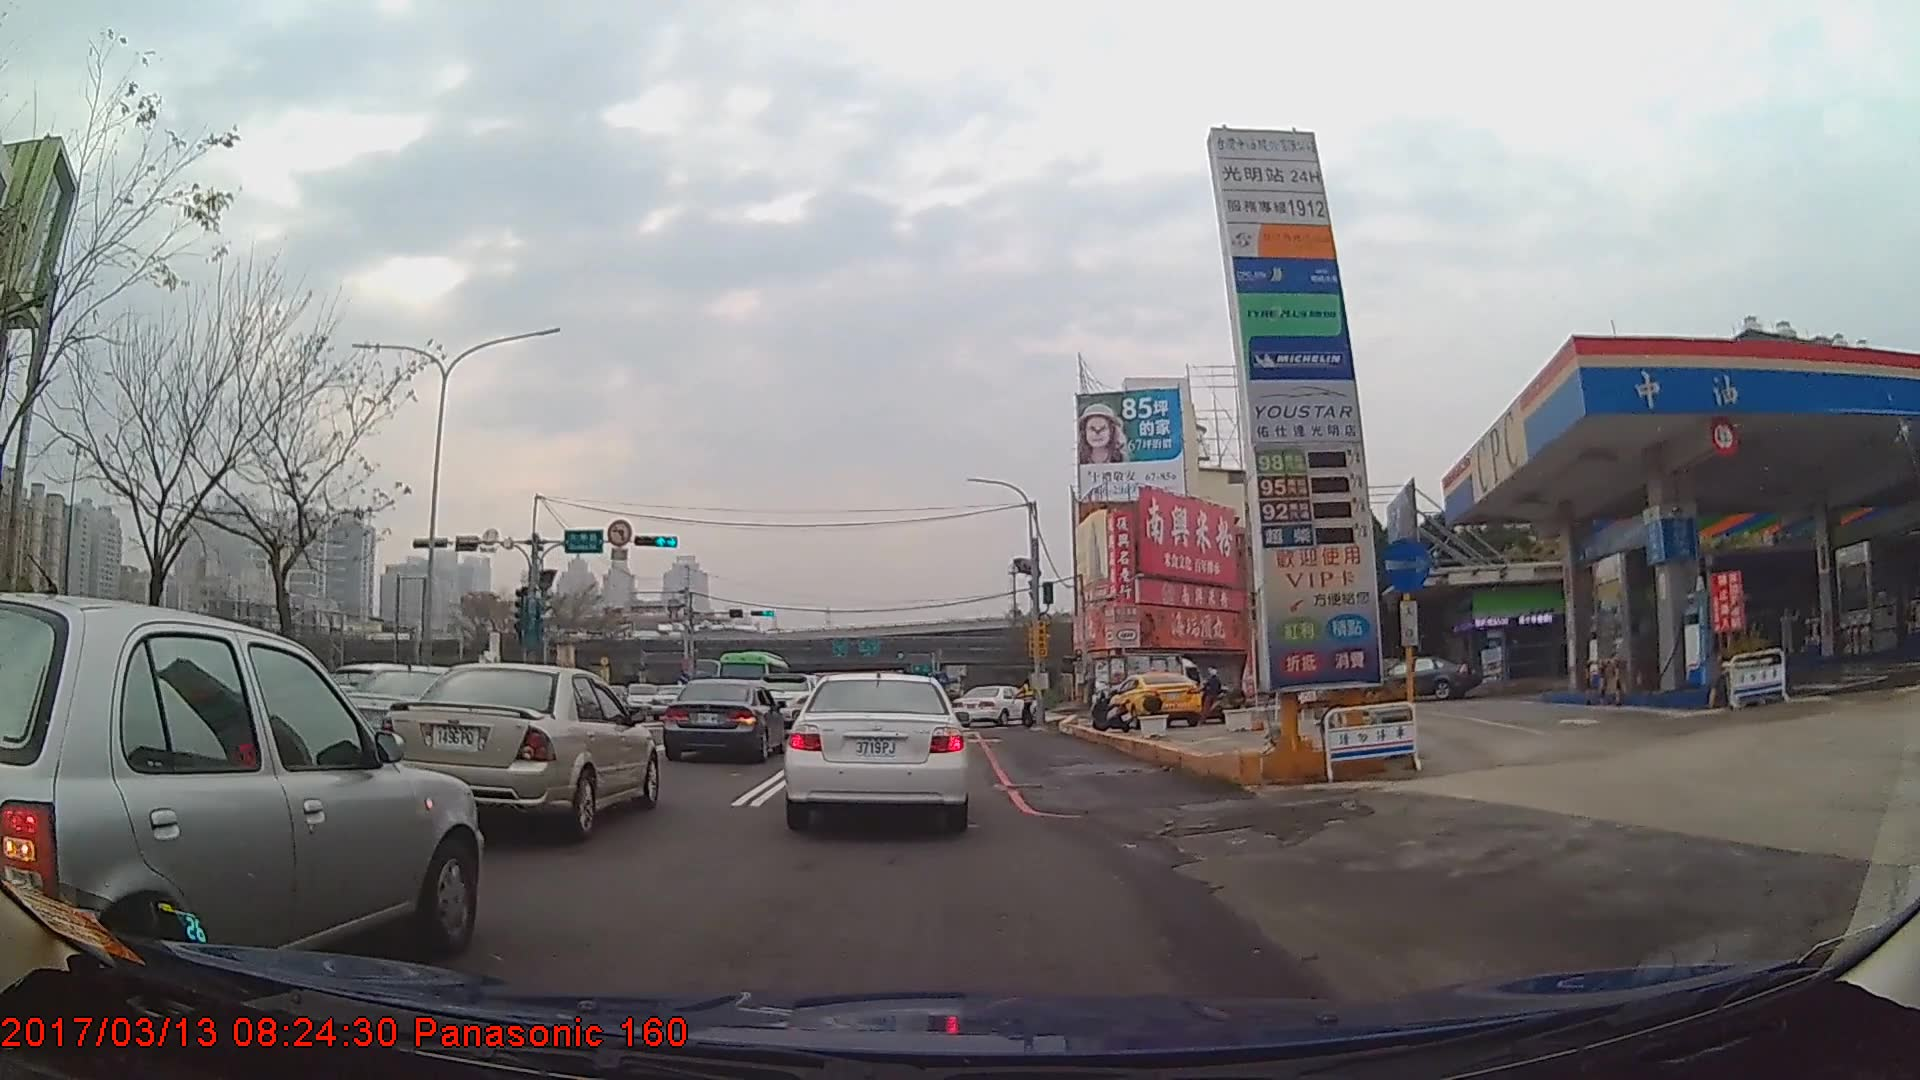rider: (1311, 660, 1350, 721), (1198, 669, 1233, 728)
vehicle: (0, 589, 483, 1002), (380, 662, 660, 838), (785, 666, 972, 832), (660, 677, 789, 766), (1091, 651, 1204, 715), (1108, 671, 1202, 728), (1373, 656, 1480, 699), (713, 651, 791, 711), (954, 684, 1040, 729)
